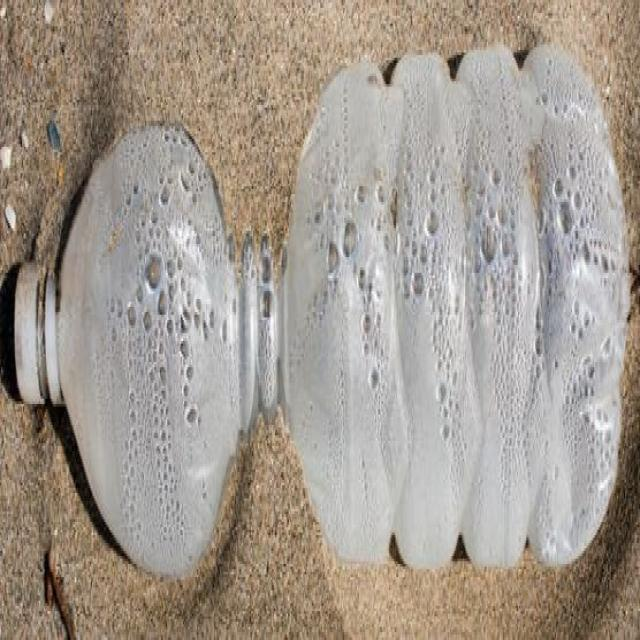general: (8, 37, 632, 590)
